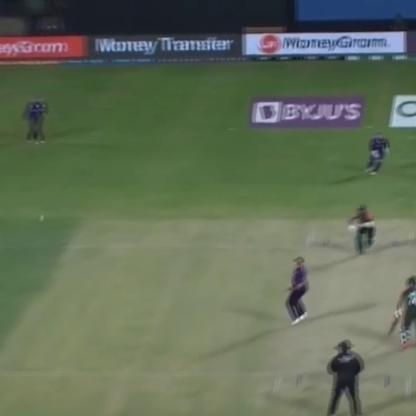ball: (33, 206, 51, 228)
pitch: (278, 209, 416, 416)
